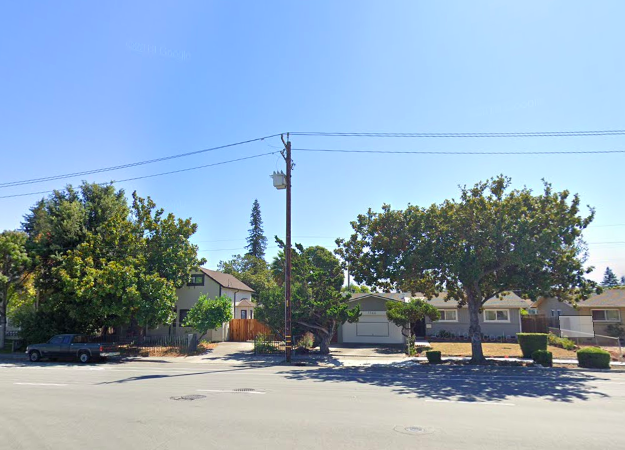tree: (334, 173, 604, 364), (19, 179, 207, 342)
utility_pole: (266, 123, 305, 204)
